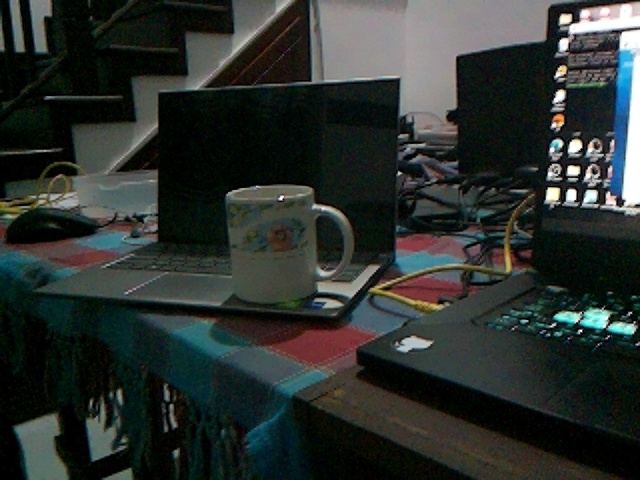mug: (221, 184, 357, 305)
